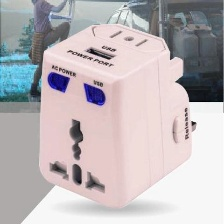three_eye_plug: (32, 14, 198, 213)
